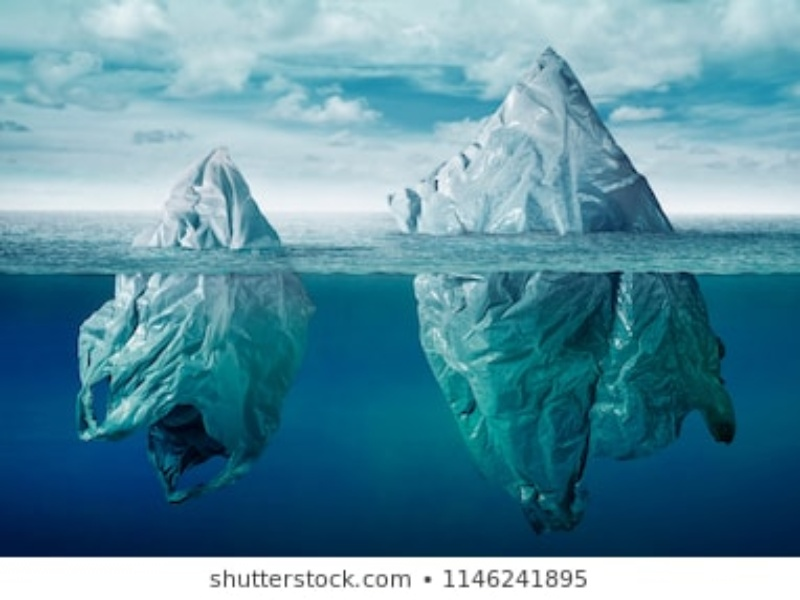plastic-bag: (380, 47, 740, 536), (69, 140, 322, 505)
